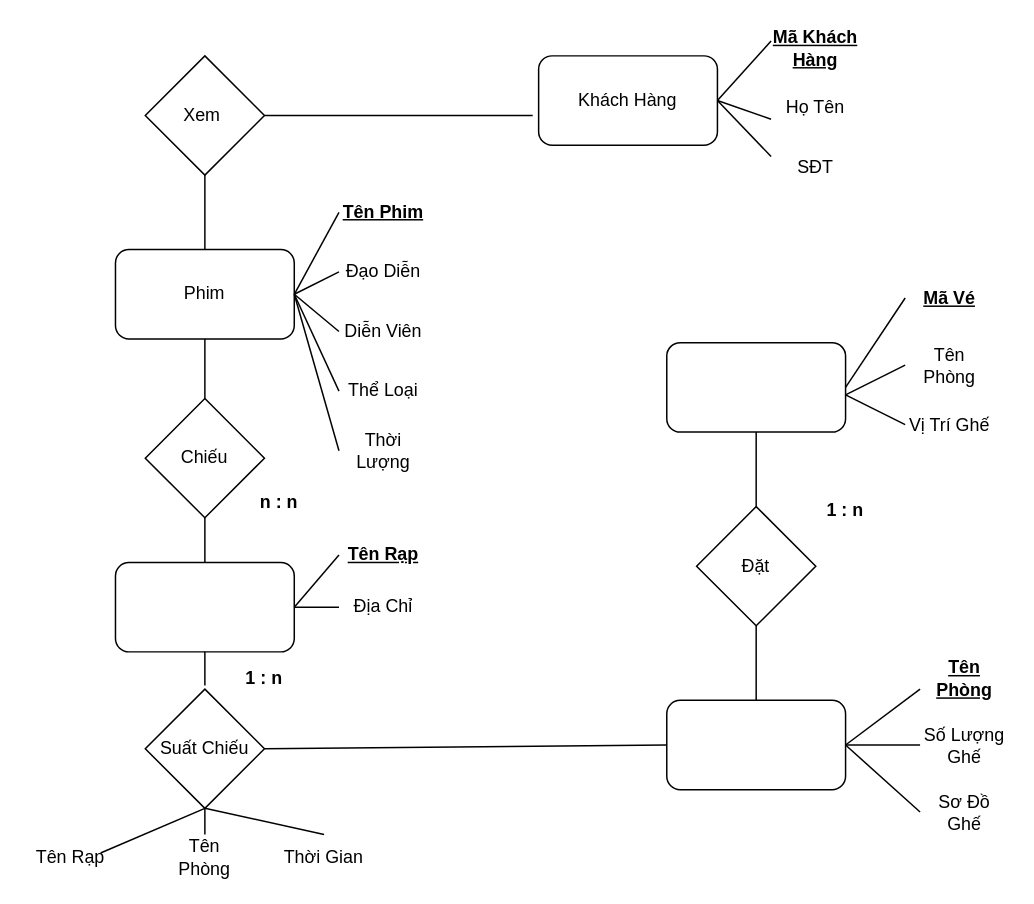
Image size: 1034x904. Some labels were removed from this diagram. Each missing label, with the centre of its shape:
"Phòng Chiếu" goes at point 755,744.
"Rạp Chiếu" goes at point 204,606.
"Vé" goes at point 755,386.
